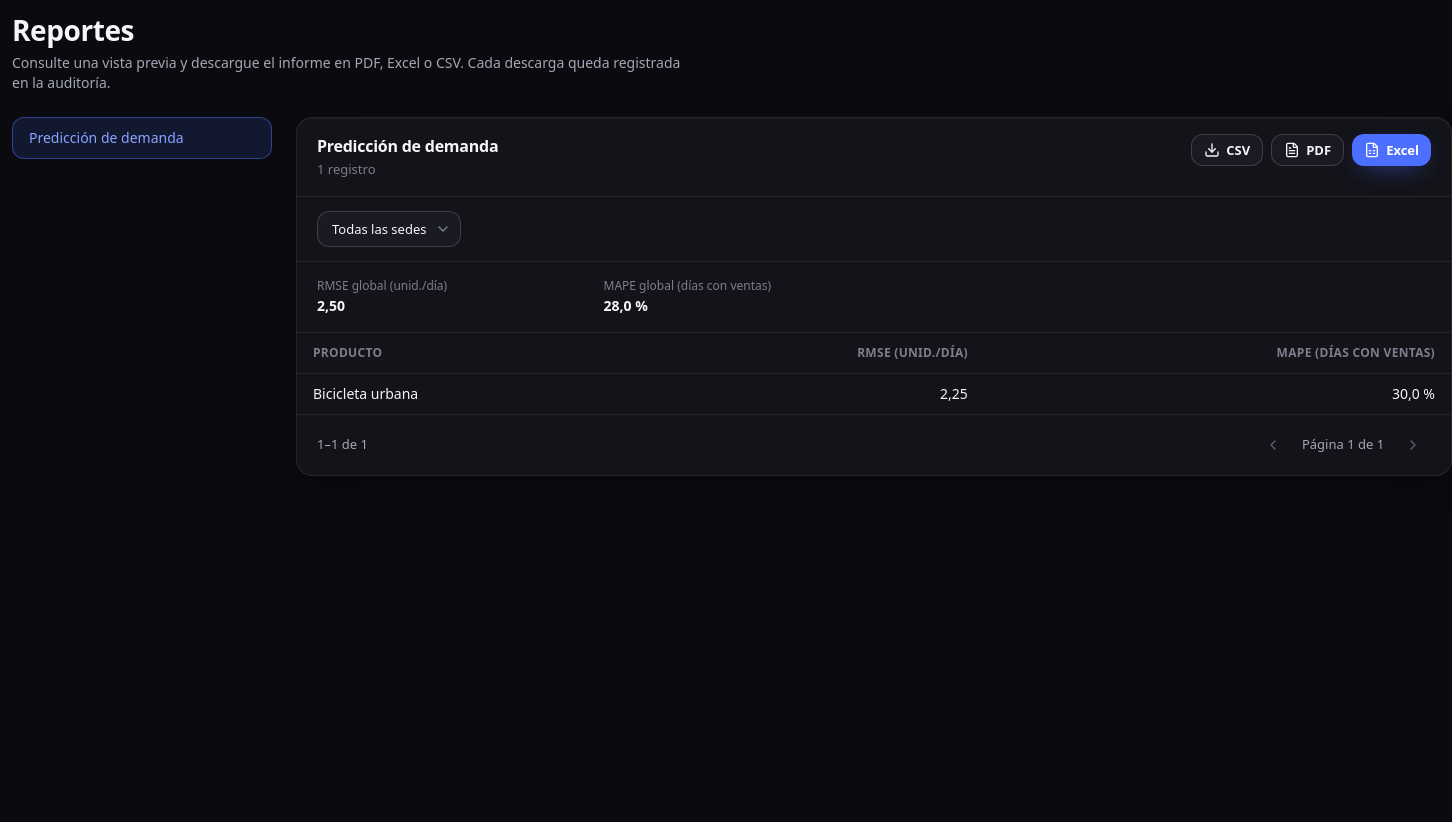
Test case: reportes: descargas › ofrece PDF, Excel y CSV, y el PDF pide el formato «pdf» al servidor
Expected: the button "Excel" is shown, left=1352, top=134, right=1431, bottom=166
Expected: the button "CSV" is shown, left=1191, top=134, right=1263, bottom=166
Click the button "PDF". click: (1308, 150)
box: left=1271, top=134, right=1344, bottom=166
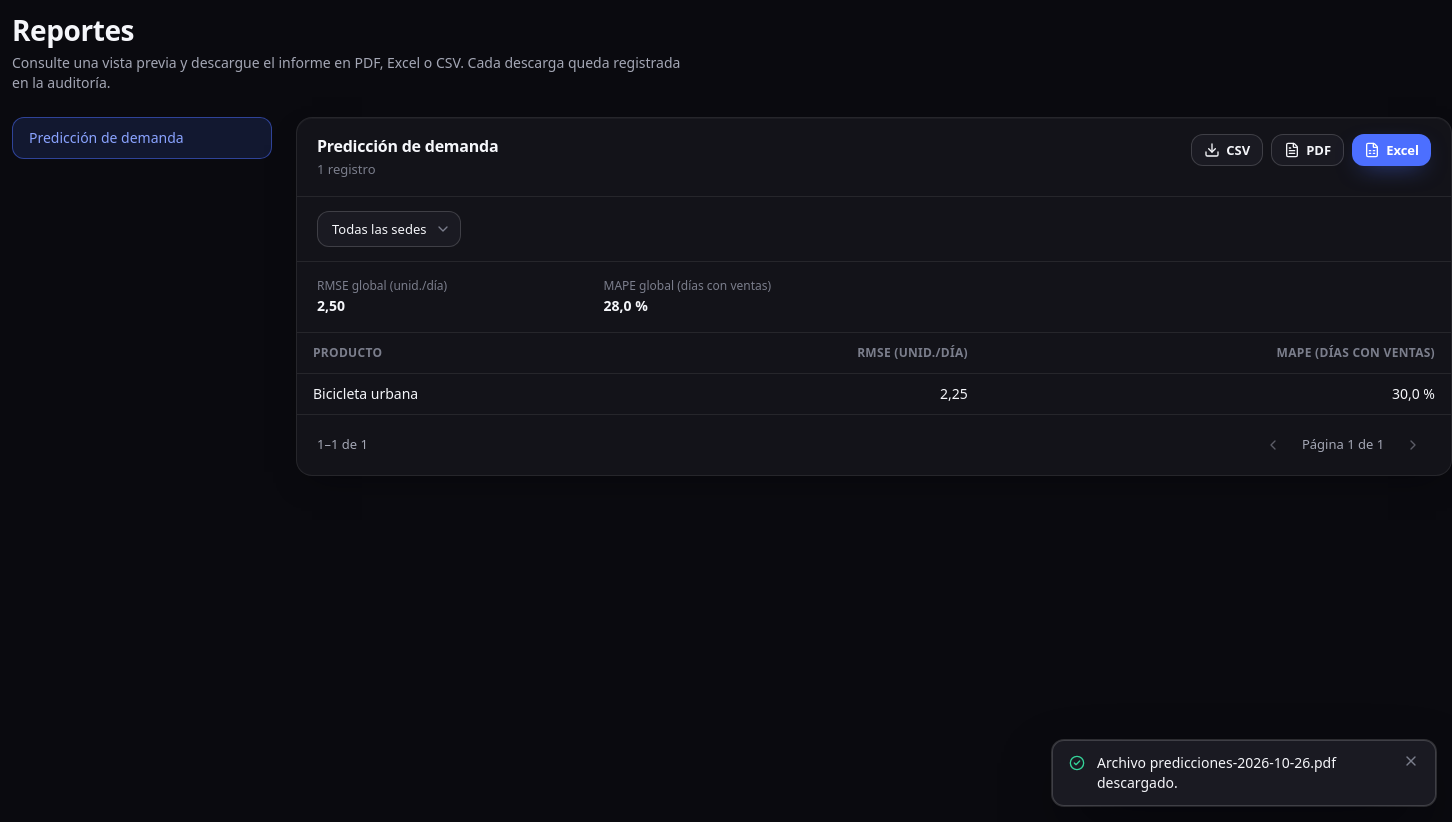
Now the text "Archivo predicciones-2026-10-26.pdf descargado." is shown, box left=1097, top=753, right=1336, bottom=792
